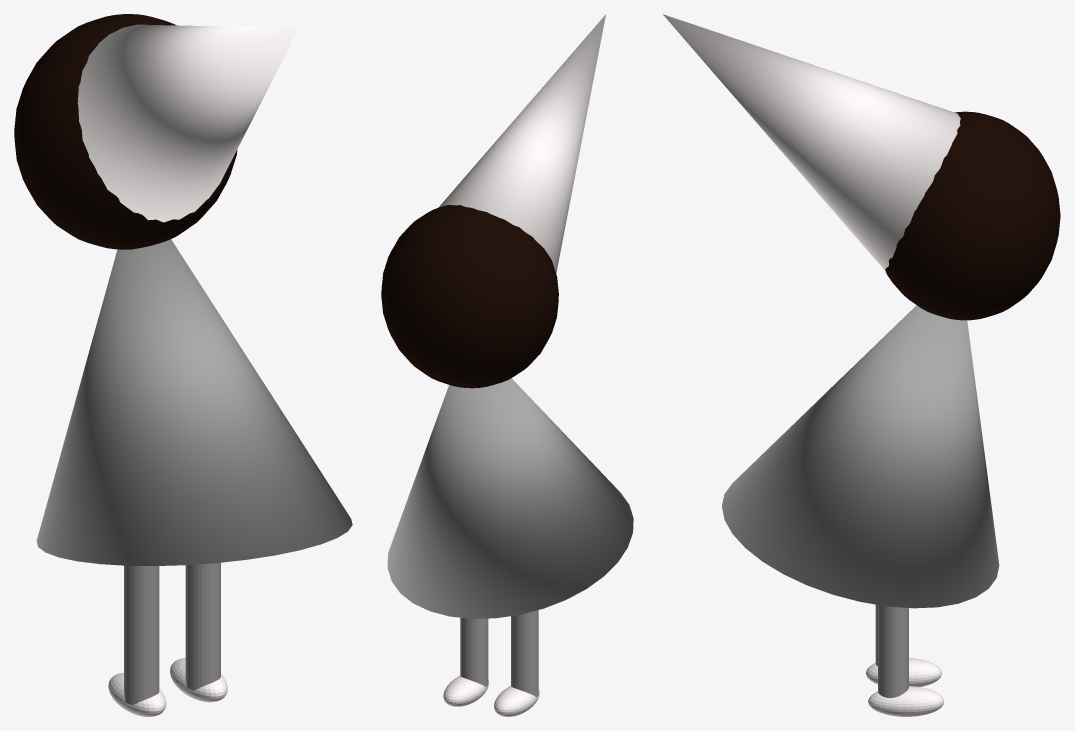
File: princess-textured.obj
3 views of the same model, side by side, from view 1: azimuth 30°, elevation 25°; view 2: azimuth 150°, elevation 25°; view 3: azimuth 270°, elevation 25° (orthographic). The views are drawn at different scales.
Visible parts, largest first — view 1: Cone_Cone.001, Cone.001_Cone.002, Sphere, Cylinder.001_Cylinder.008, Cylinder, Sphere.001, Sphere.002_Sphere.003; view 2: Cone_Cone.001, Sphere, Cone.001_Cone.002, Cylinder.001_Cylinder.008, Cylinder, Sphere.002_Sphere.003, Sphere.001; view 3: Cone_Cone.001, Cone.001_Cone.002, Sphere, Cylinder, Sphere.001, Sphere.002_Sphere.003.
Boxes of the visible parts, x1,y1,x2,y2 form: Cone_Cone.001: [36, 239, 352, 565]; Cone.001_Cone.002: [77, 24, 298, 222]; Sphere: [14, 14, 237, 249]; Cylinder.001_Cylinder.008: [124, 565, 159, 705]; Cylinder: [185, 562, 220, 690]; Sphere.001: [170, 658, 227, 702]; Sphere.002_Sphere.003: [108, 672, 166, 716]; Cone_Cone.001: [387, 378, 633, 618]; Sphere: [381, 205, 558, 388]; Cone.001_Cone.002: [438, 14, 605, 273]; Cylinder.001_Cylinder.008: [511, 610, 538, 697]; Cylinder: [460, 617, 488, 686]; Sphere.002_Sphere.003: [494, 686, 539, 716]; Sphere.001: [443, 676, 488, 706]; Cone_Cone.001: [722, 305, 999, 608]; Cone.001_Cone.002: [663, 14, 960, 271]; Sphere: [885, 111, 1060, 320]; Cylinder: [878, 605, 908, 698]; Sphere.001: [868, 686, 944, 716]; Sphere.002_Sphere.003: [866, 658, 941, 686].
Bounding box in the file's own units: 0.1446 × 0.3952 × 0.2085.
